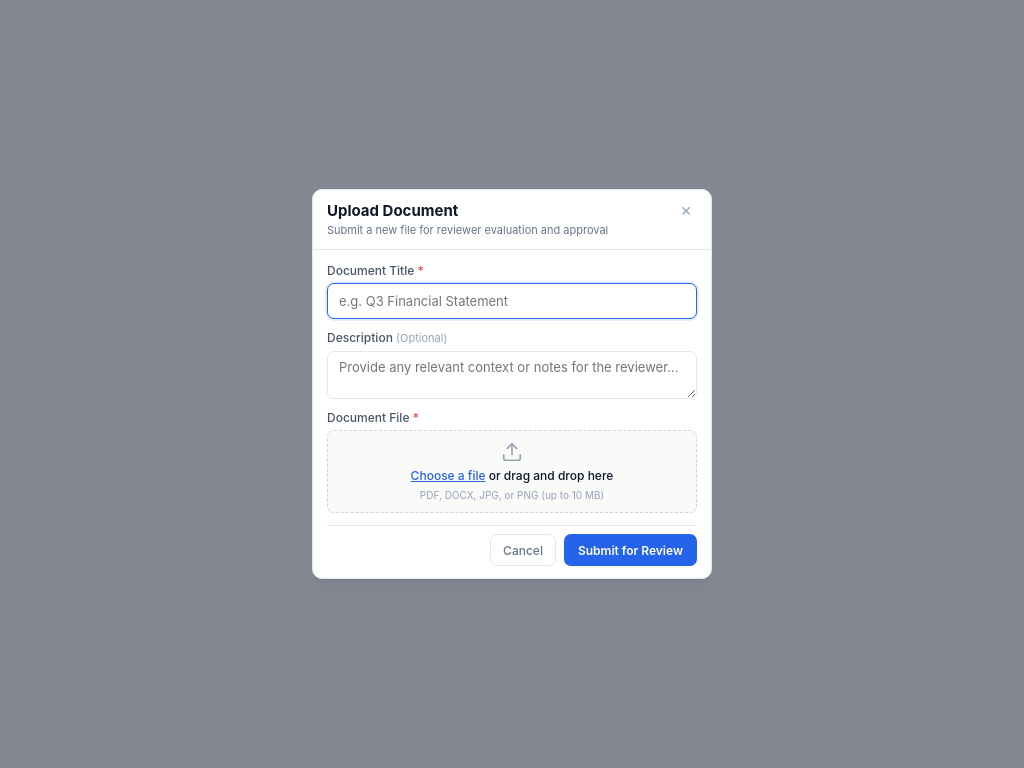
Test: UploadModal › validates that file is required if title is filled but file is missing
In the field labelled "Document Title *": (512, 301) [327,283,697,319], type "Annual Report"
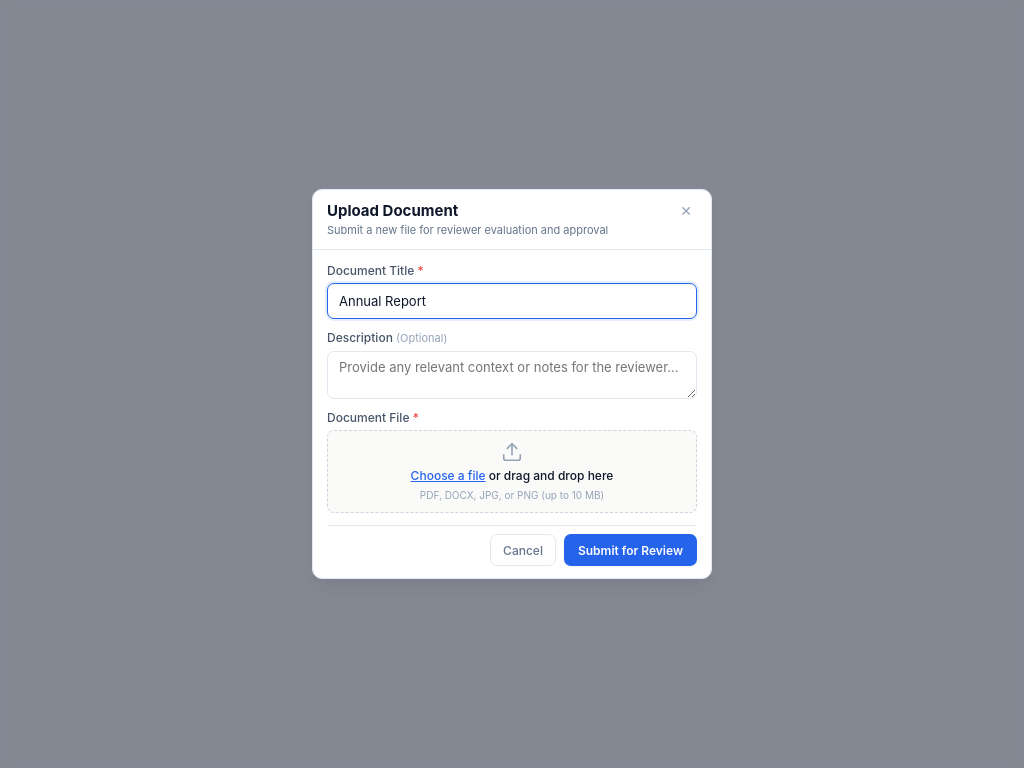
Click the button "Submit for Review": (630, 550) [564,534,697,566]
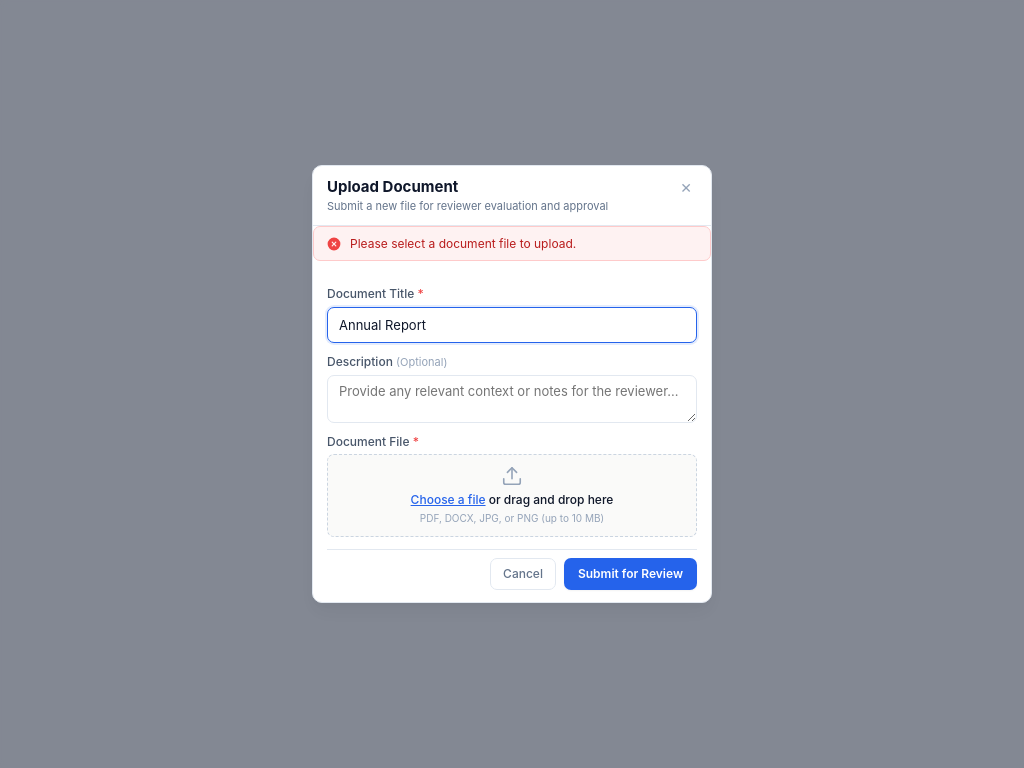
Expected: the text "Please select a document file to upload." is shown, [350,235,576,252]
